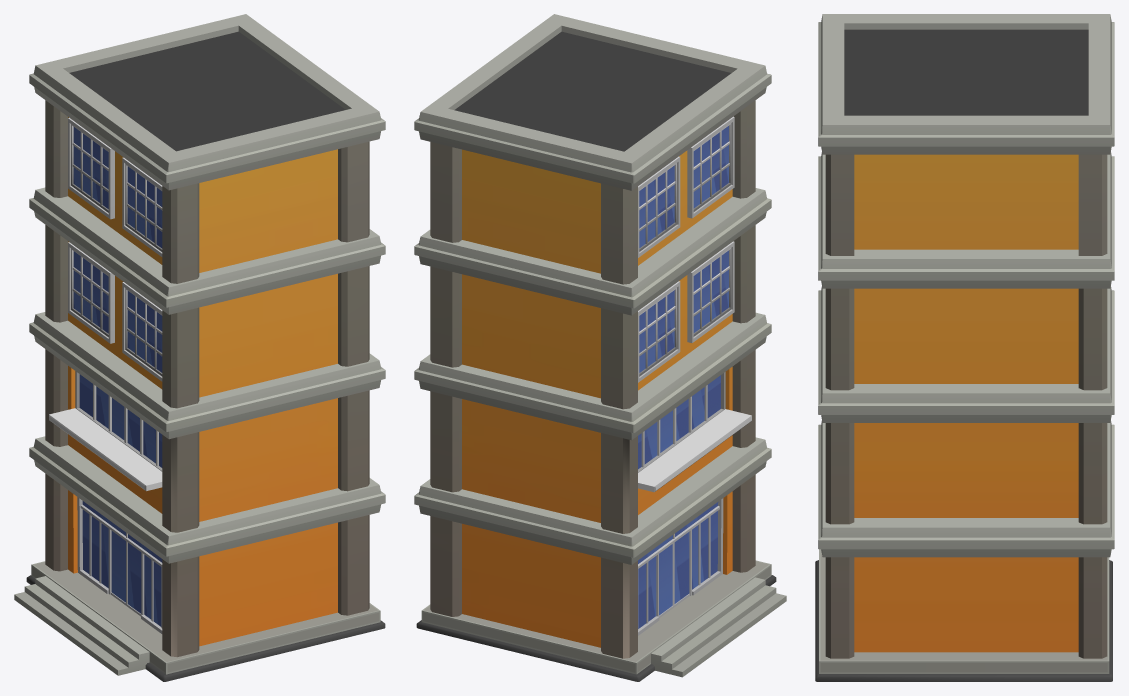
The model's file is Building_9_1_HH.fbx.
The picture shows the model from 3 angles, left to right: view 1: azimuth 30°, elevation 25°; view 2: azimuth 150°, elevation 25°; view 3: azimuth 270°, elevation 25°; orthographic projection. The views are drawn at different scales.
Parts seen in each view (by area): view 1: Building_9_1_HH; view 2: Building_9_1_HH; view 3: Building_9_1_HH.
Boxes of the visible parts, x1,y1,x2,y2 form: Building_9_1_HH: (14, 14, 385, 681); Building_9_1_HH: (414, 14, 786, 681); Building_9_1_HH: (815, 14, 1114, 681).
Bounding box in the file's own units: 947 × 1855 × 906.
